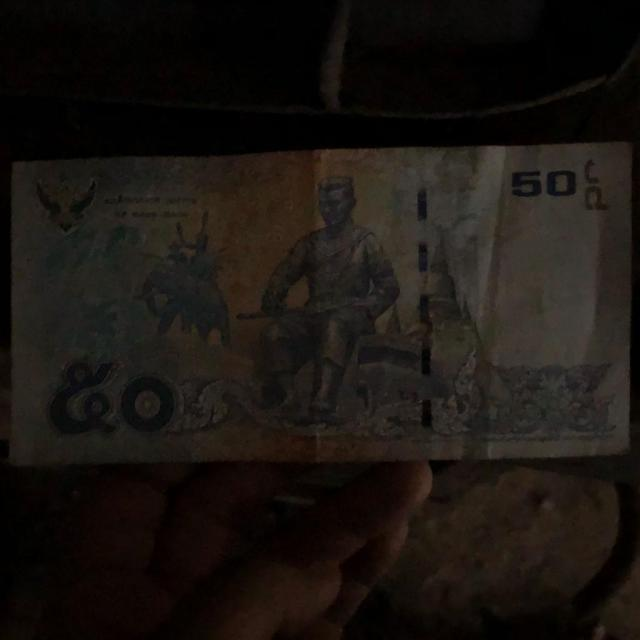THAI50: (11, 142, 631, 464)
